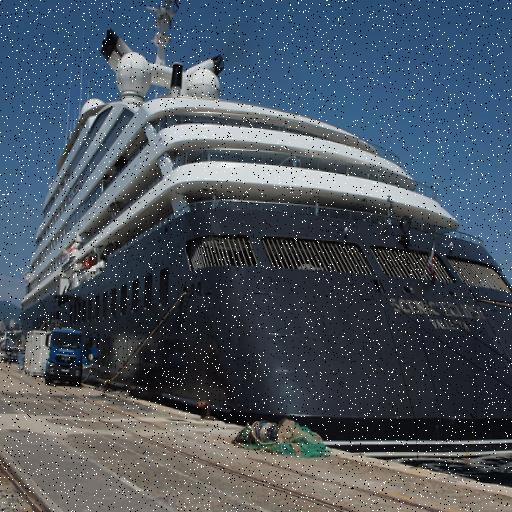cruises: (17, 1, 512, 465)
